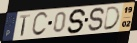0: (52, 11, 68, 35)
C: (30, 11, 49, 38)
D: (102, 5, 121, 31)
S: (66, 8, 88, 35), (87, 6, 106, 33)
T: (19, 14, 31, 37)
